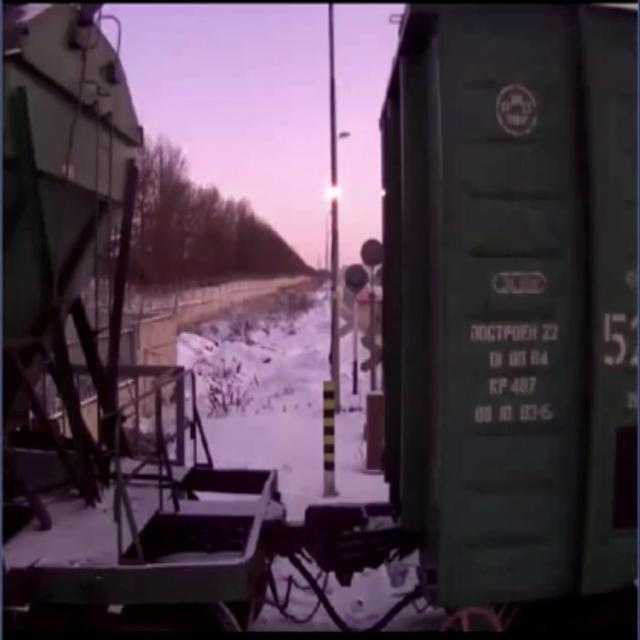gondola: (360, 0, 640, 640)
hopper: (0, 0, 306, 640)
